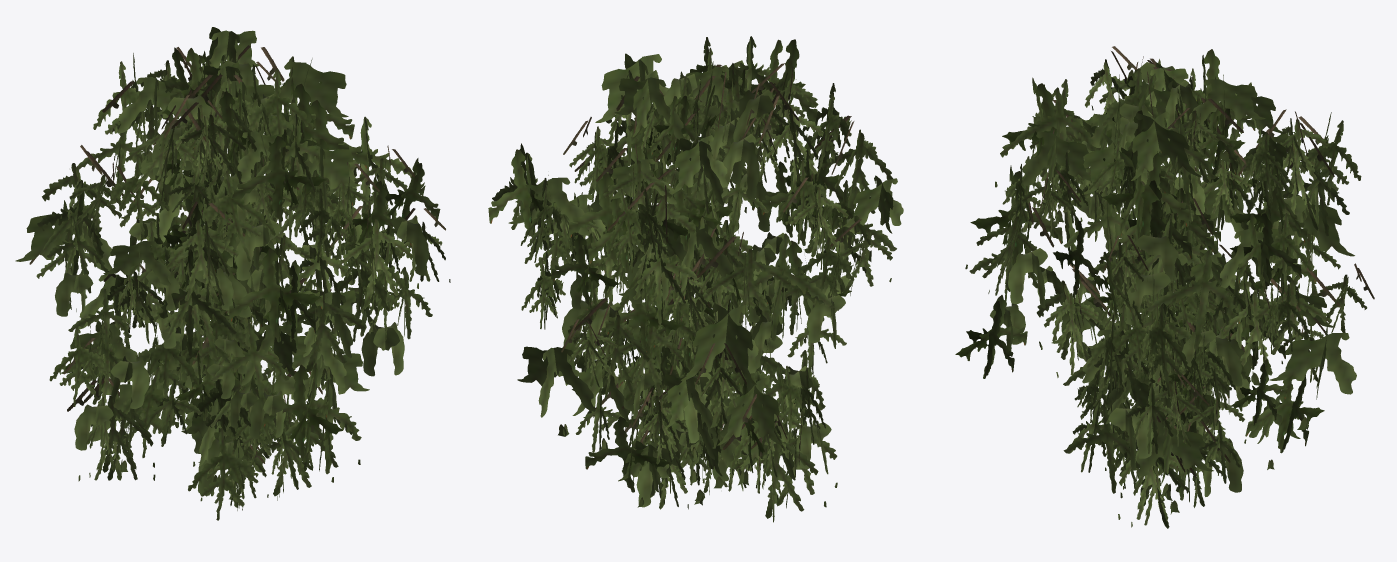
The model's file is evergreen-shrub-lod1.glb.
3 renders of one model, left to right at view 1: azimuth 30°, elevation 25°; view 2: azimuth 150°, elevation 25°; view 3: azimuth 270°, elevation 25°, orthographic. The views are drawn at different scales.
Visible parts, largest first — view 1: foliage; view 2: foliage; view 3: foliage.
Boxes of the visible parts, x1=… form: foliage: x1=15, y1=27, x2=450, y2=520; foliage: x1=488, y1=36, x2=903, y2=522; foliage: x1=955, y1=46, x2=1374, y2=528.
Size of the model in its own units: 0.9267 by 1.12 by 0.9772.
Materials: 1 (1 with a texture image).
